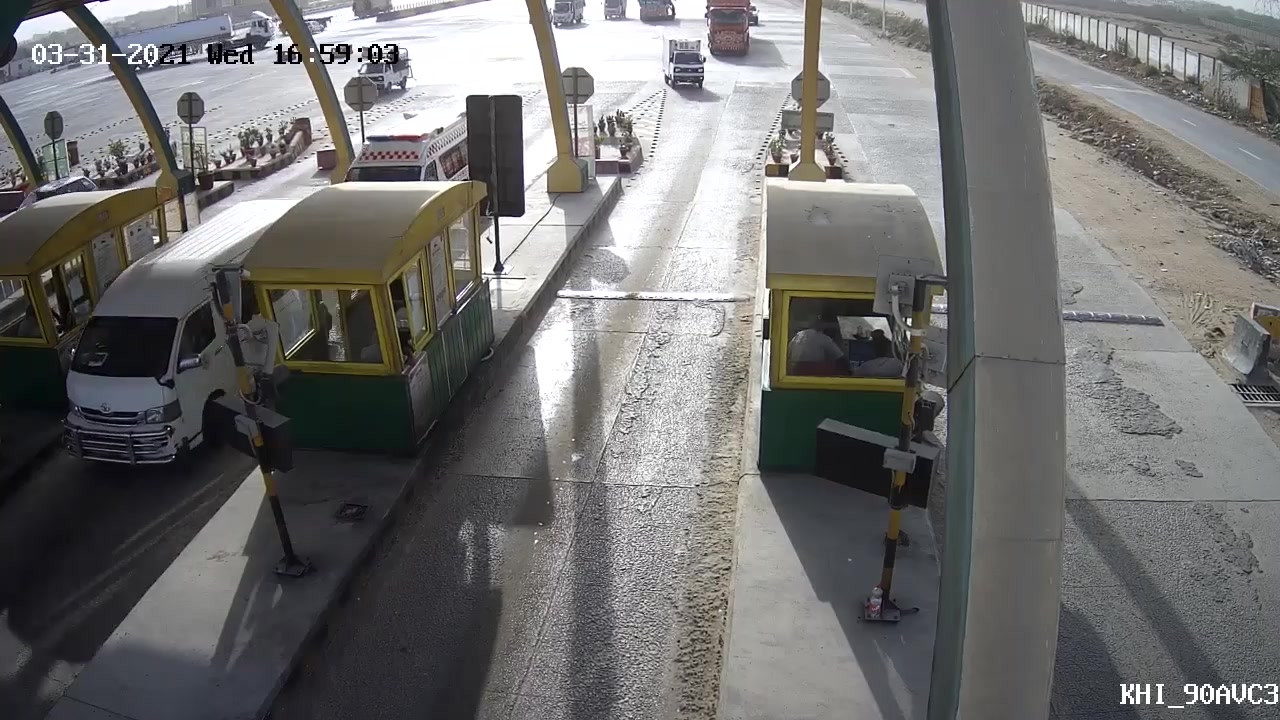F1: (656, 36, 713, 101)
